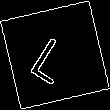L_NE: (29, 25, 81, 85)
